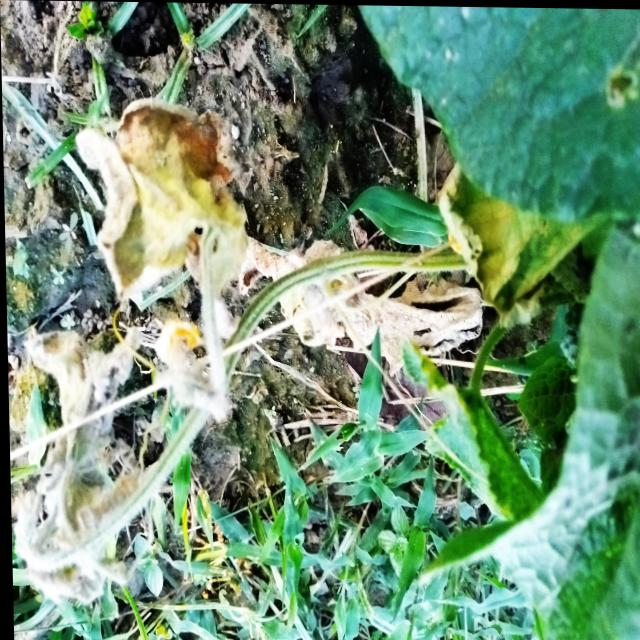Bacterial-Wilt: (74, 93, 255, 305)
